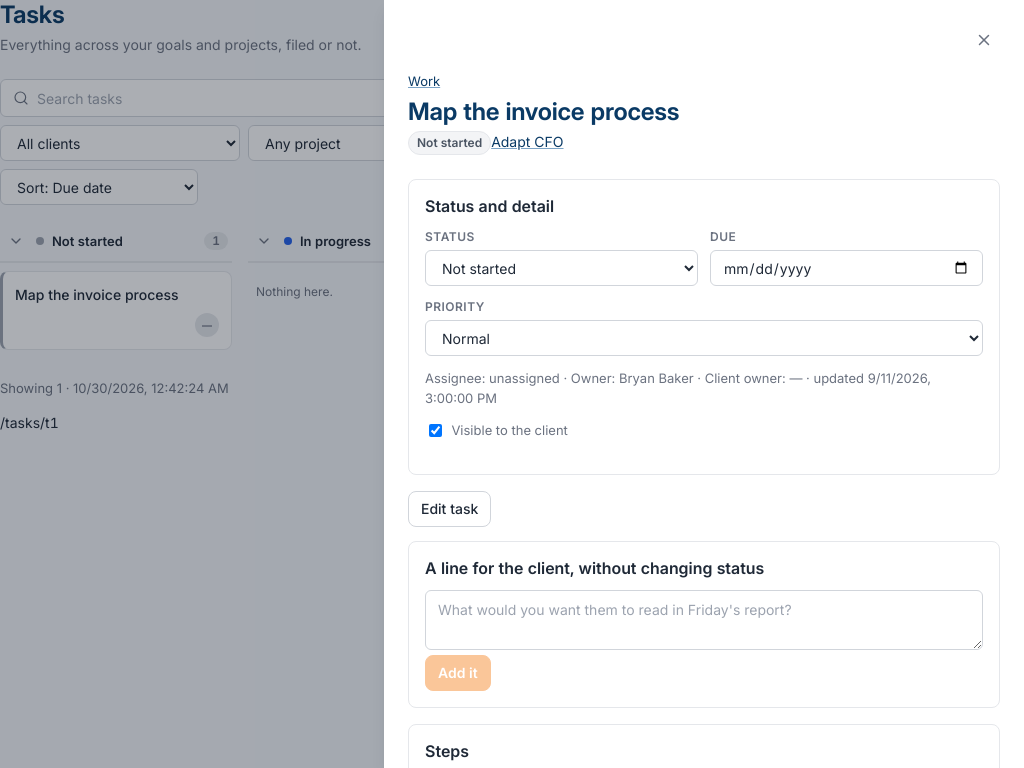
Scenario: the task sheet: what closes it and what does not › keeps the sheet open on a client line and says it was added
Type "Invoices now go out the same day." into the text box named "Client-facing line" at point(704, 620), box [425,590,983,650]
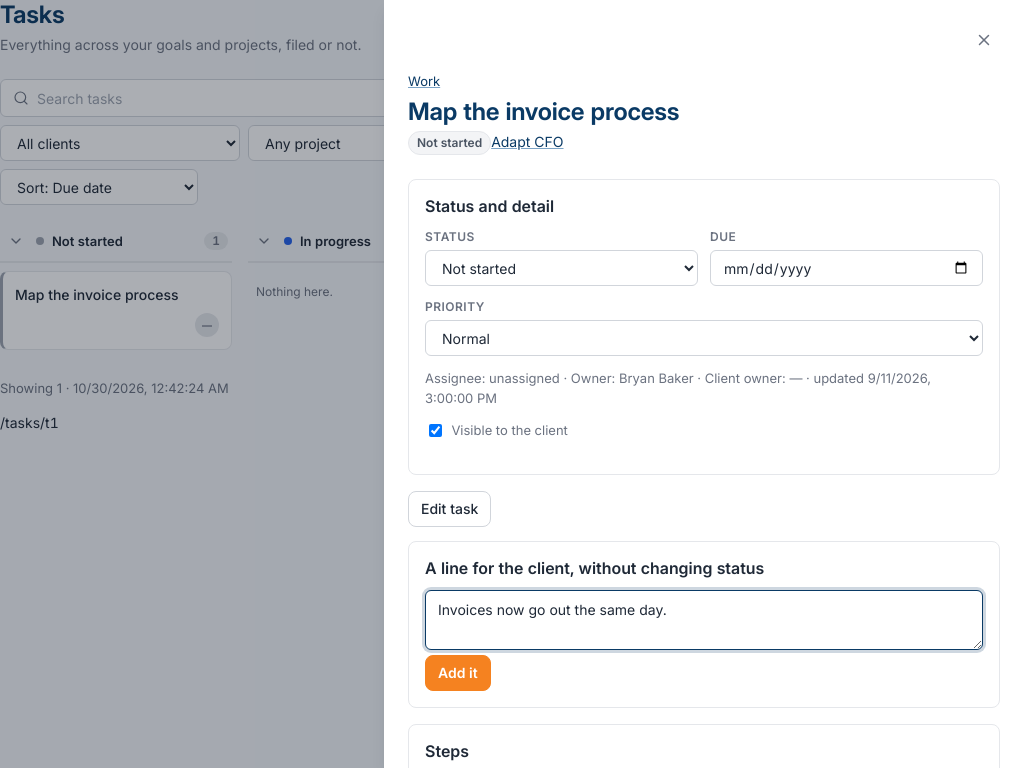
Click the button "Add it" at point(458, 673), box [425,655,491,691]
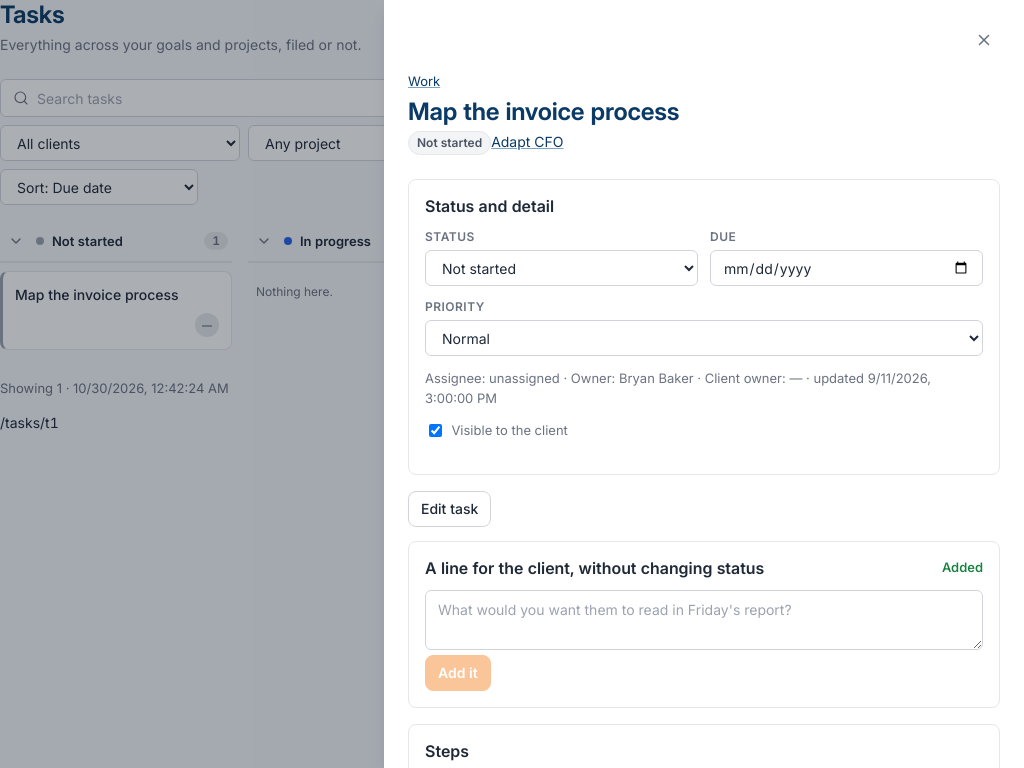
Result: the text "Added" is shown at [942,558,983,577]
